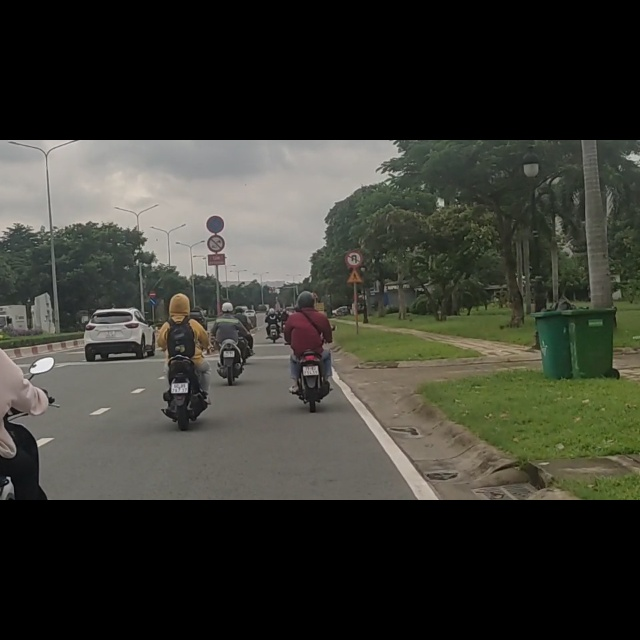bien_hieu_lenh: (207, 135, 225, 165), (207, 169, 225, 199), (345, 198, 363, 226), (347, 226, 363, 254), (149, 281, 157, 295), (149, 267, 157, 280)
